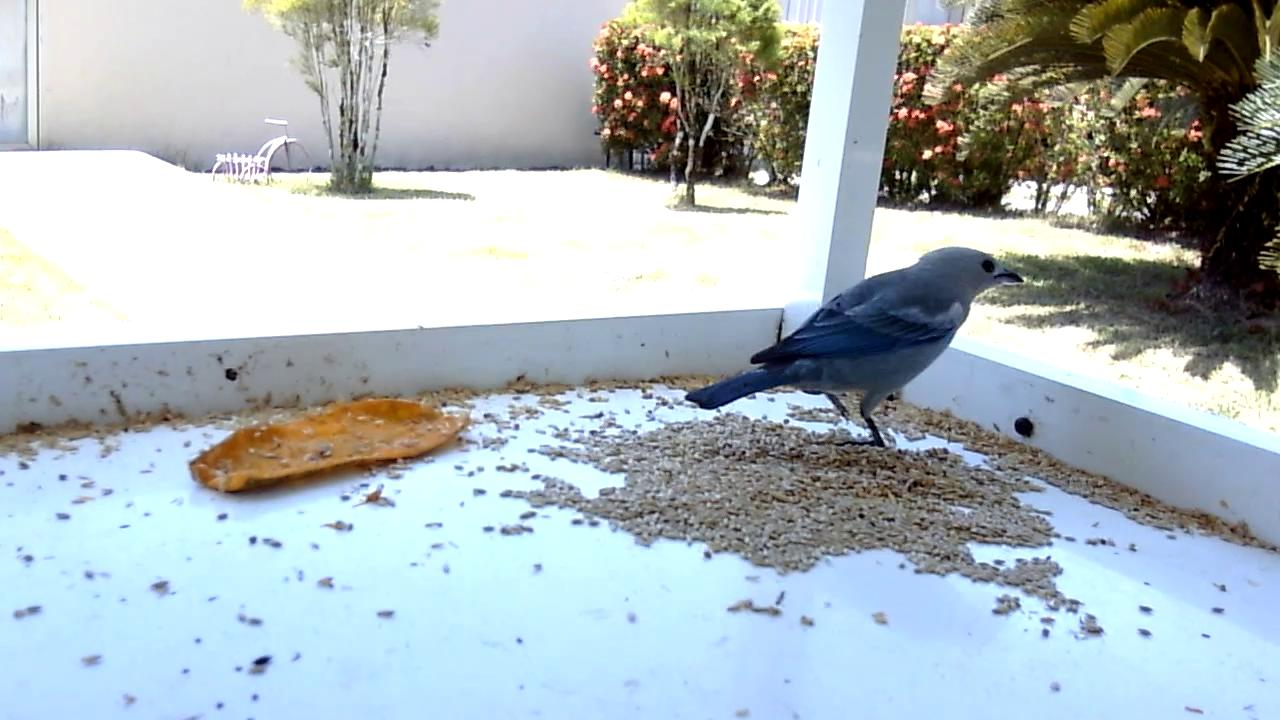sanhaco_da_amazonia: (686, 249, 1027, 454)
